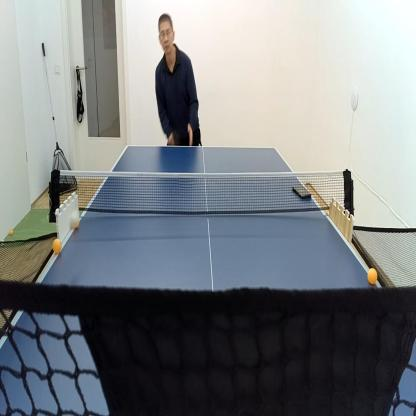Ball: (366, 266, 378, 286), (51, 236, 63, 256), (69, 213, 81, 232), (68, 208, 80, 226), (0, 238, 6, 249), (8, 227, 14, 237)
